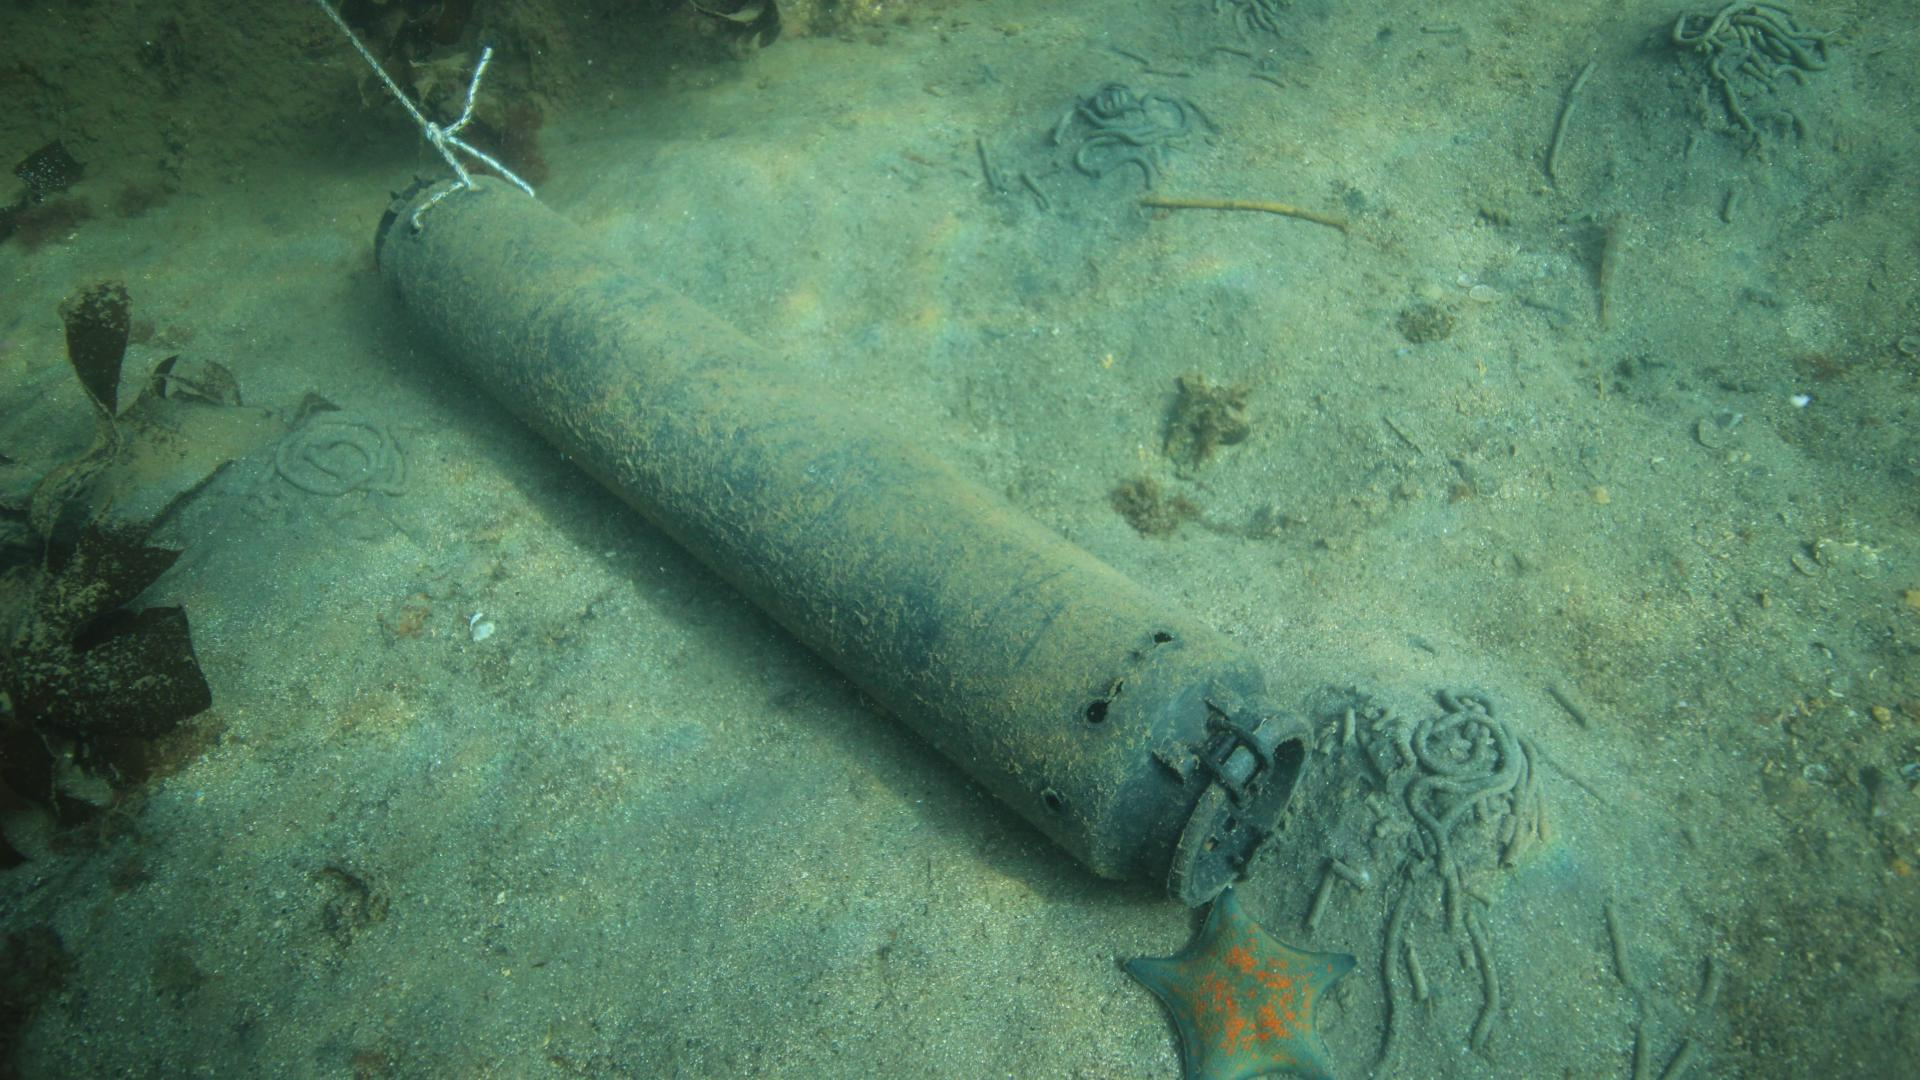bundle of ropes: (324, 5, 541, 187)
eel fish trap: (375, 170, 1309, 910)
